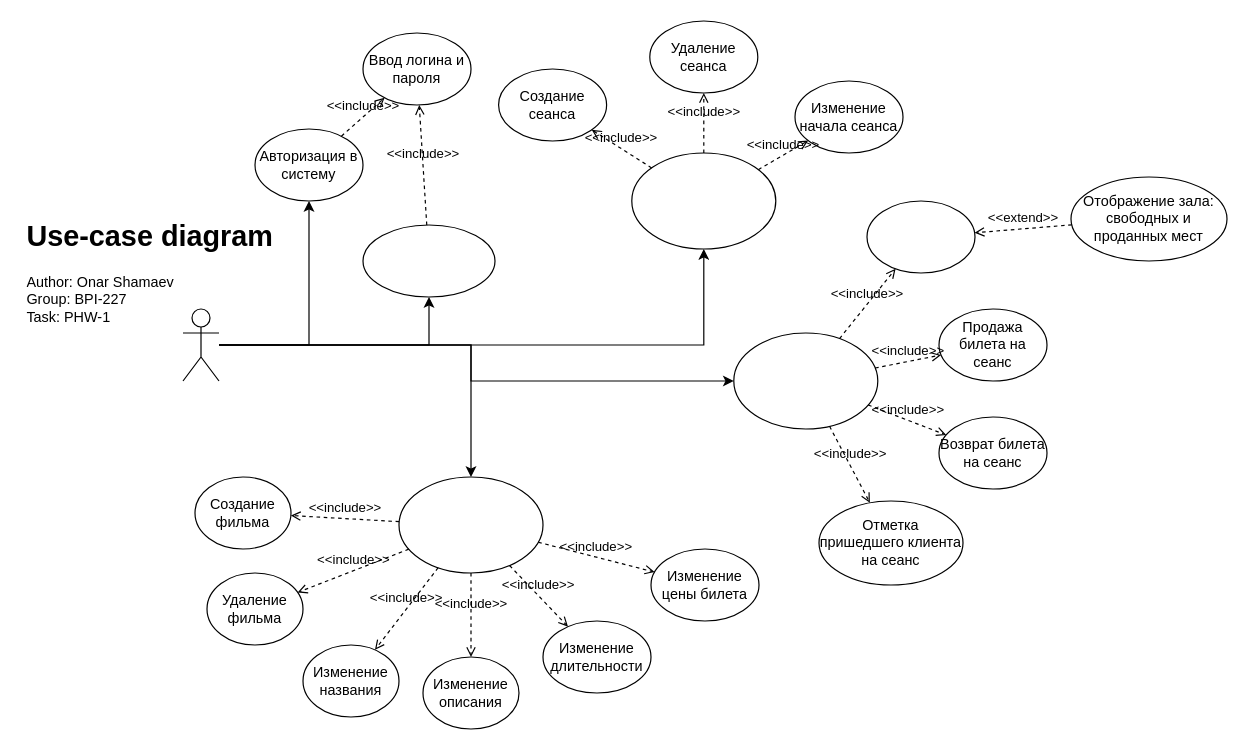
Some shapes in this 1248 by 750 pixel diagram are drawn without their labels. The shapes that lost their labels are listed below. From the top down, each one's centre as x and y in pixels, then its label:
At [703,200]: "Редактирование сеансов".
At [920,236]: "Просмотр доступных сеансов".
At [428,260]: "Регистрация в системе".
At [200,344]: "Cinema manager".
At [805,380]: "Управление билетами".
At [470,524]: "Редактирование фильмов в прокате".
